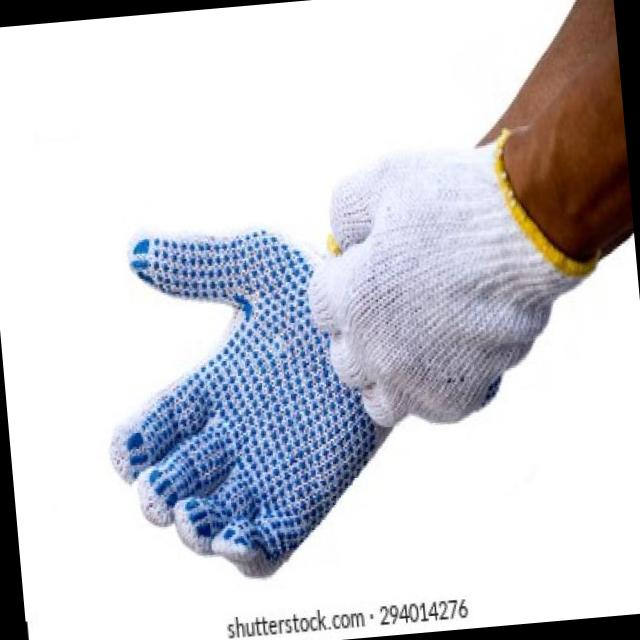Gloves: (88, 146, 363, 580), (300, 106, 600, 464)
